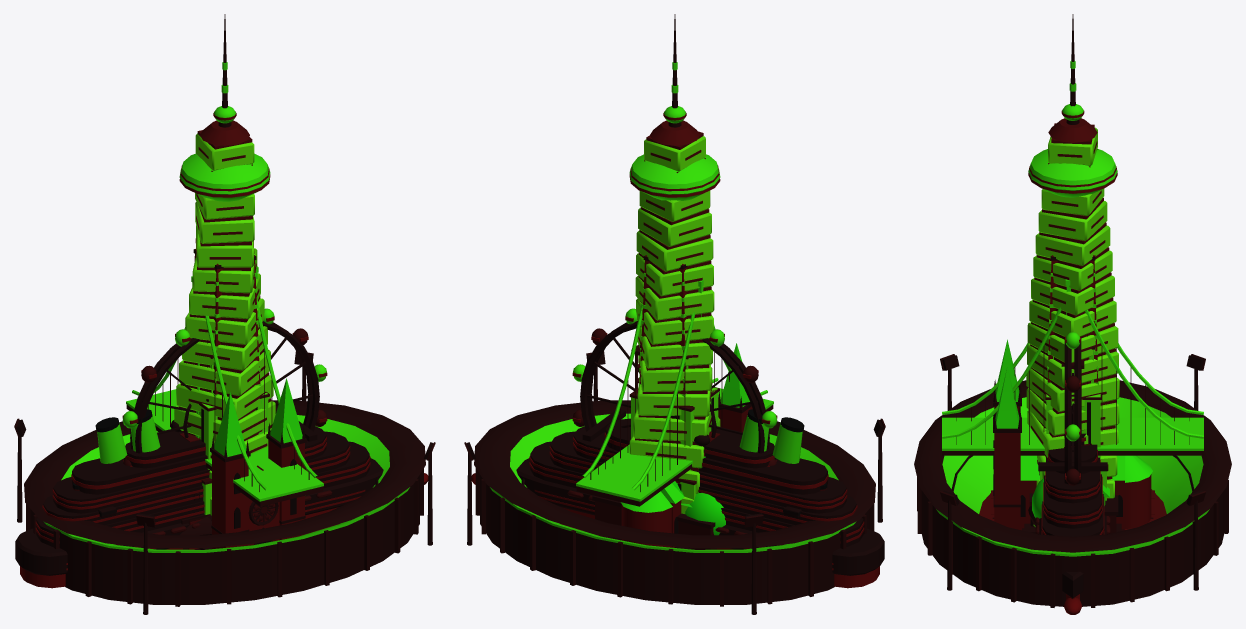
The picture shows the model from 3 angles, left to right: view 1: azimuth 30°, elevation 25°; view 2: azimuth 150°, elevation 25°; view 3: azimuth 270°, elevation 25°; orthographic projection. The views are drawn at different scales.
Visible parts, largest first — view 1: stadium, cruise_ship, skyscraper_twist, cathedral, bridge_tower, big_wheel, observation_tower, skyscraper_deco, skyscraper_spire; view 2: stadium, skyscraper_twist, cruise_ship, bridge_tower, big_wheel, observation_tower, cathedral, museum_dome, skyscraper_deco, fluffy_cloud, skyscraper_spire; view 3: stadium, skyscraper_twist, bridge_tower, cathedral, cruise_ship, observation_tower, big_wheel, skyscraper_deco, skyscraper_spire, museum_dome, fluffy_cloud.
Part boxes in pixels (bbox=[...]): stadium: bbox=[14, 351, 435, 614]; cruise_ship: bbox=[15, 409, 428, 588]; skyscraper_twist: bbox=[174, 120, 275, 549]; cathedral: bbox=[210, 378, 306, 548]; bridge_tower: bbox=[126, 266, 323, 506]; big_wheel: bbox=[122, 308, 327, 466]; observation_tower: bbox=[179, 14, 270, 201]; skyscraper_deco: bbox=[199, 346, 269, 514]; skyscraper_spire: bbox=[193, 249, 263, 444]; stadium: bbox=[464, 351, 885, 614]; skyscraper_twist: bbox=[608, 120, 720, 549]; cruise_ship: bbox=[471, 409, 884, 588]; bridge_tower: bbox=[576, 280, 773, 506]; big_wheel: bbox=[572, 308, 777, 466]; observation_tower: bbox=[629, 14, 720, 200]; cathedral: bbox=[620, 343, 752, 547]; museum_dome: bbox=[584, 495, 716, 549]; skyscraper_deco: bbox=[629, 344, 719, 499]; fluffy_cloud: bbox=[672, 481, 725, 535]; skyscraper_spire: bbox=[638, 255, 687, 444]; stadium: bbox=[914, 354, 1231, 607]; skyscraper_twist: bbox=[1024, 118, 1121, 533]; bridge_tower: bbox=[942, 279, 1203, 455]; cathedral: bbox=[993, 339, 1152, 529]; cruise_ship: bbox=[1035, 433, 1110, 614]; observation_tower: bbox=[1028, 14, 1117, 197]; big_wheel: bbox=[1064, 332, 1081, 485]; skyscraper_deco: bbox=[1039, 346, 1108, 500]; skyscraper_spire: bbox=[1045, 255, 1098, 431]; museum_dome: bbox=[1022, 493, 1123, 533]; fluffy_cloud: bbox=[1028, 478, 1105, 525].
Size of what is drawn, in the model's own units: 246 by 300 by 170.
